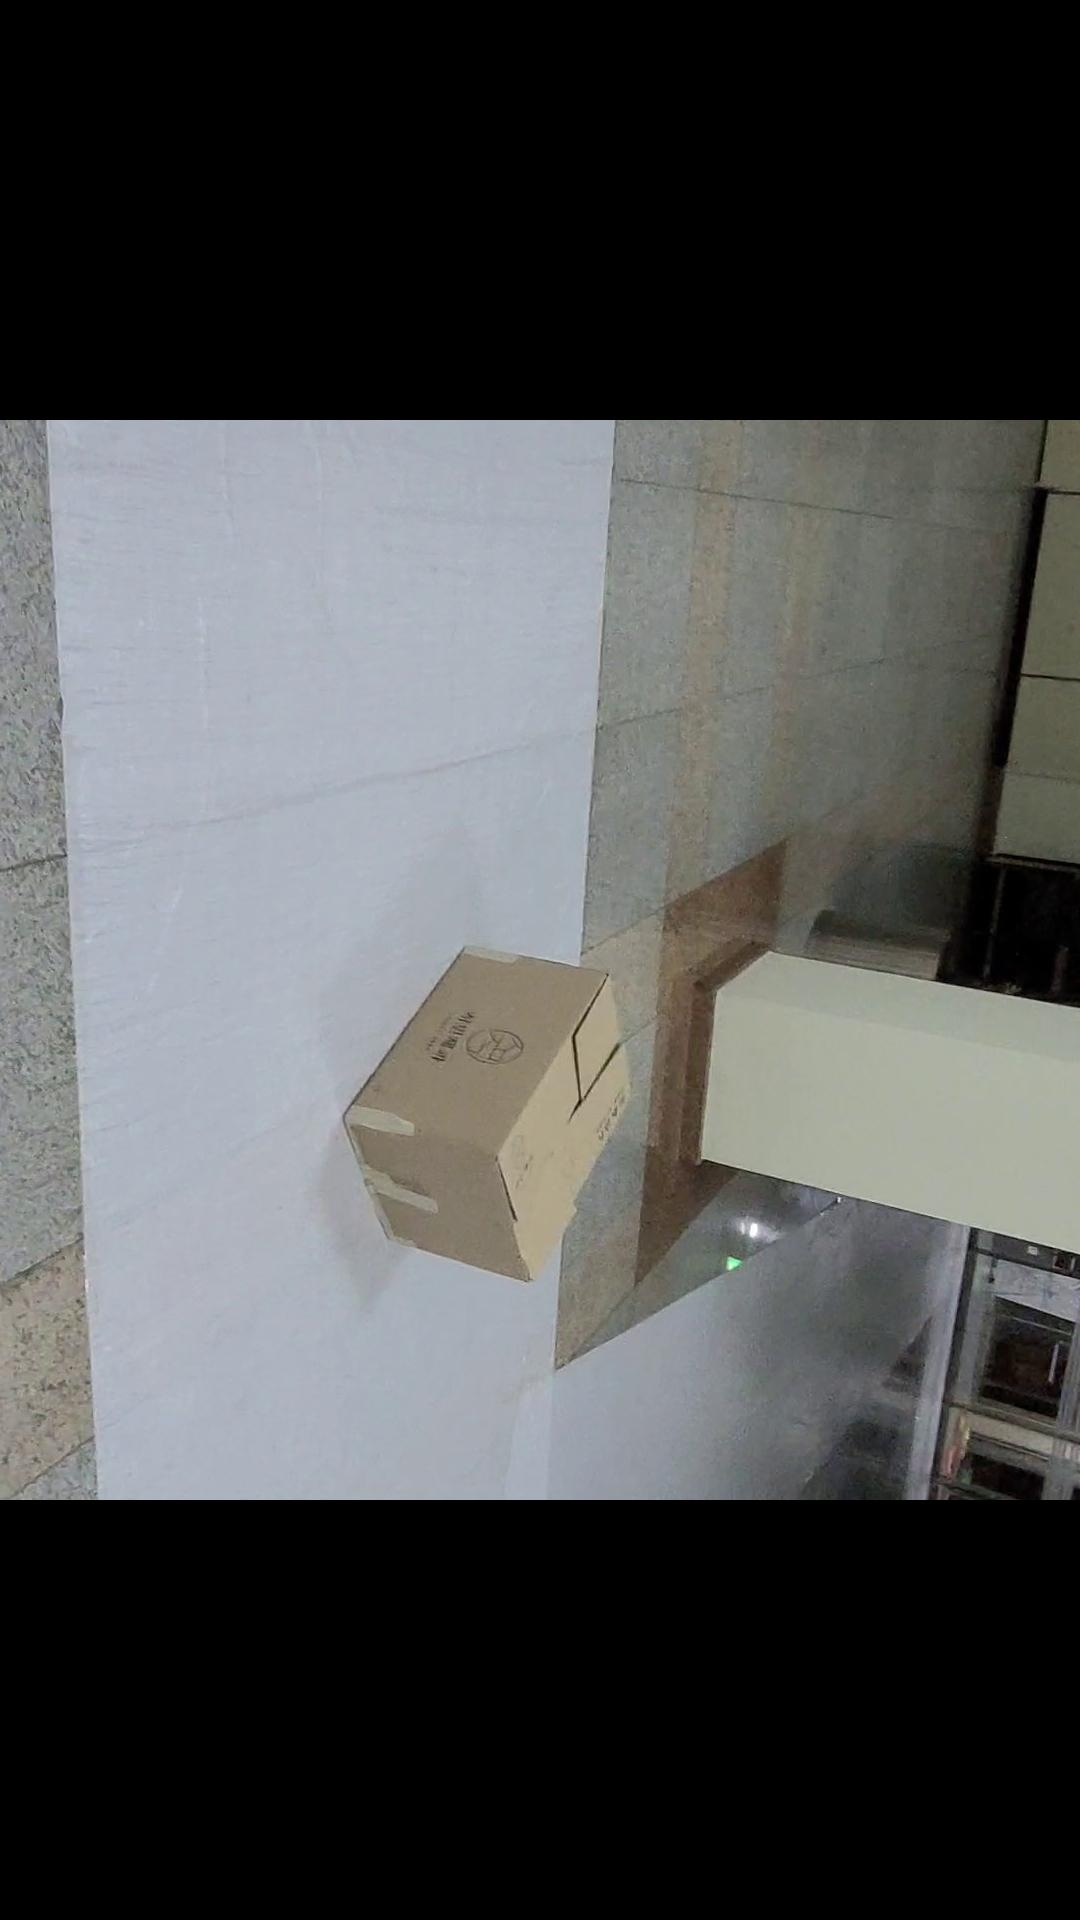Box: (305, 913, 647, 1304)
